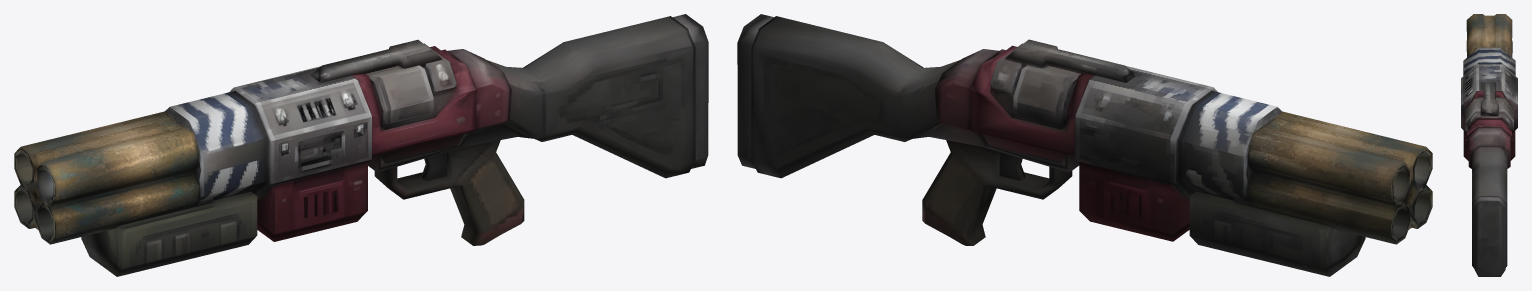
The model's file is shotgun.fbx.
3 views of the same model, side by side, from view 1: azimuth 30°, elevation 25°; view 2: azimuth 150°, elevation 25°; view 3: azimuth 270°, elevation 25° (orthographic). The views are drawn at different scales.
Parts seen in each view (by area): view 1: tripo_node_4292dc6d; view 2: tripo_node_4292dc6d; view 3: tripo_node_4292dc6d.
Boxes of the visible parts, bbox=[...] form: tripo_node_4292dc6d: bbox=[14, 14, 708, 276]; tripo_node_4292dc6d: bbox=[737, 14, 1432, 276]; tripo_node_4292dc6d: bbox=[1461, 14, 1517, 276].
Bounding box in the file's own units: 100 × 13.73 × 30.34.
Materials: 1 (1 with a texture image).
